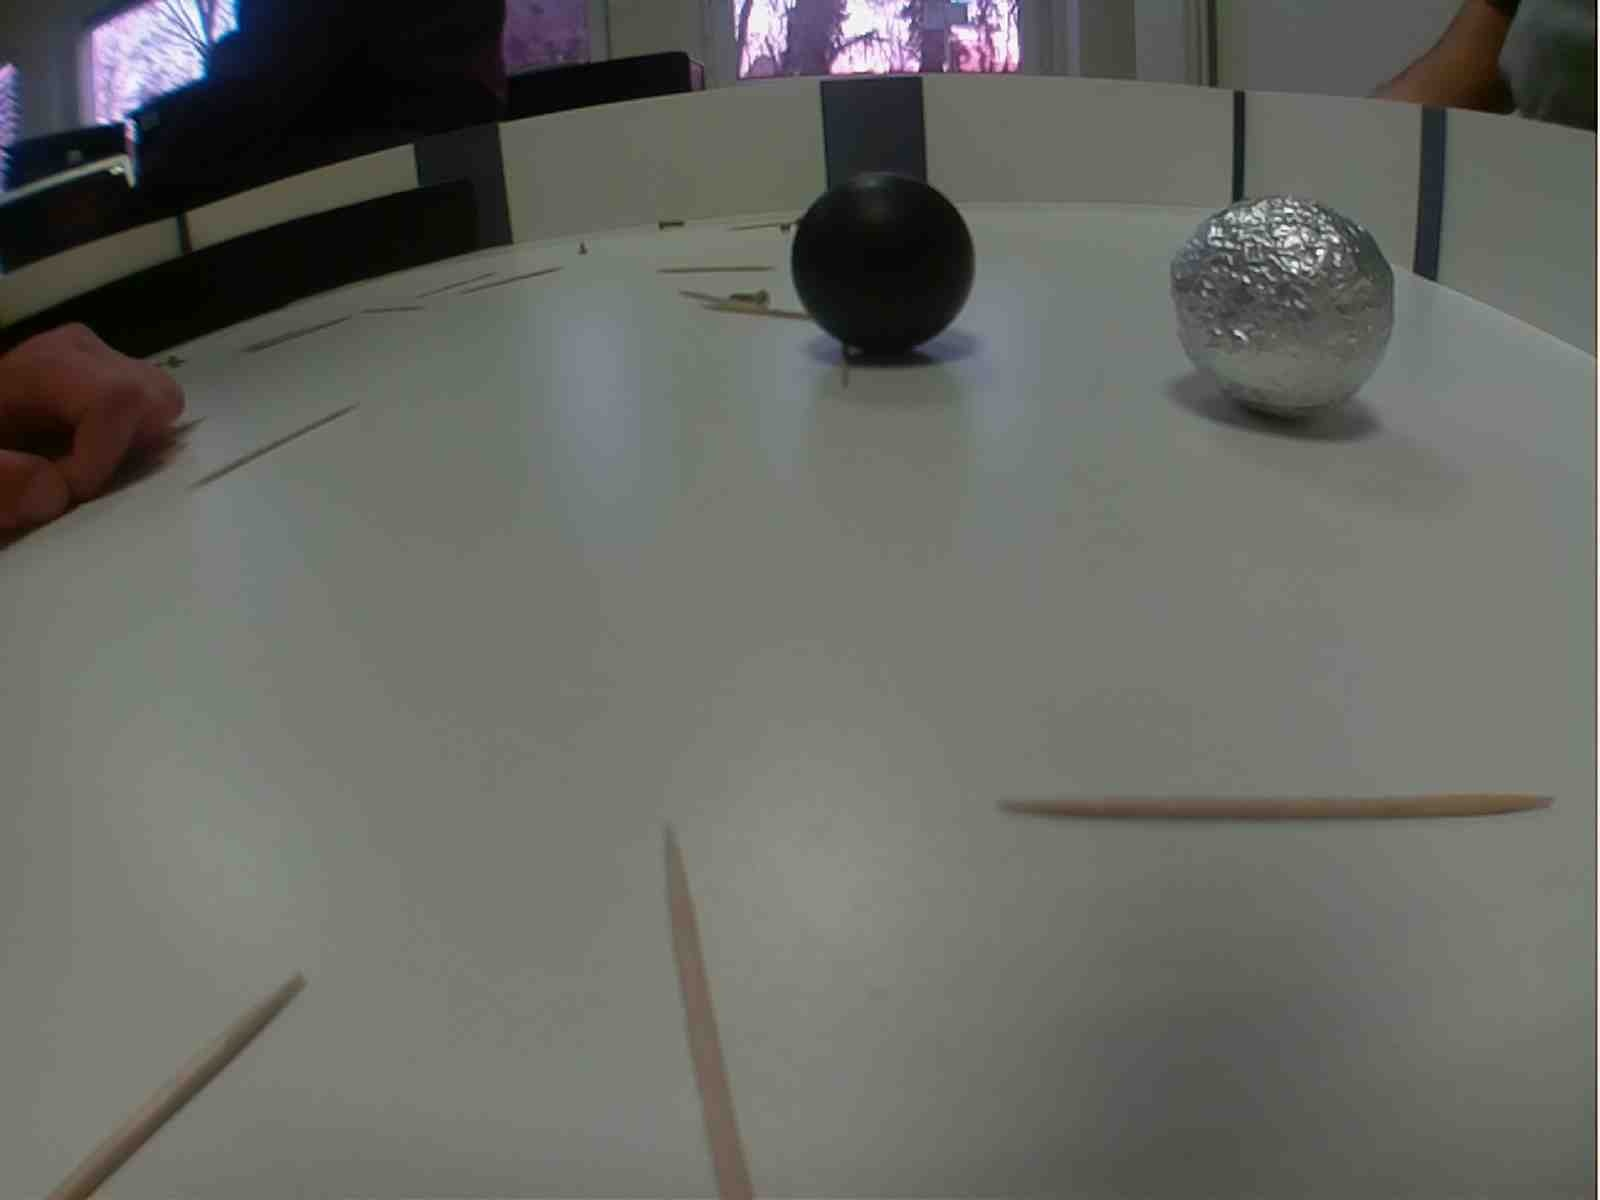bianca: (1167, 187, 1397, 434)
nera: (787, 166, 981, 366)
